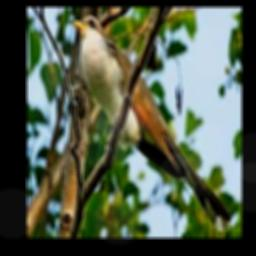Cuckoo: (70, 15, 232, 230)
